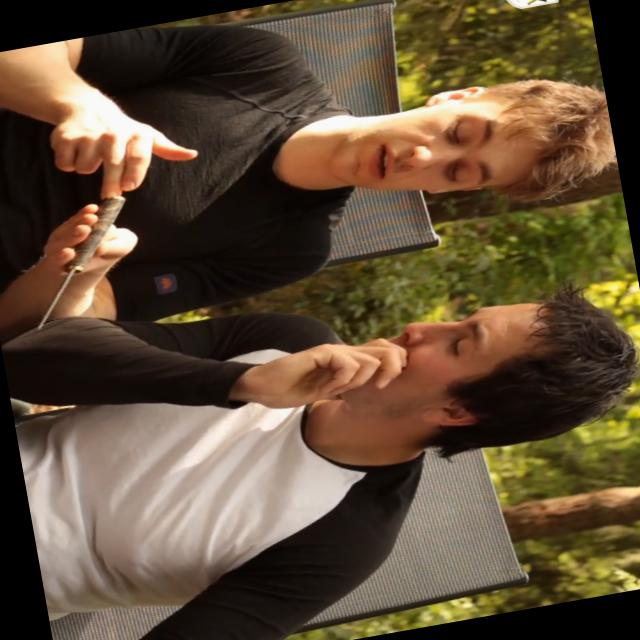knife: (5, 187, 160, 340)
